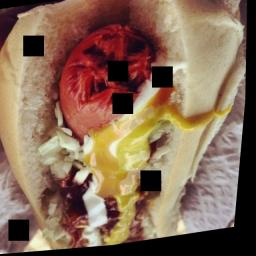hotdog: (39, 3, 174, 143)
